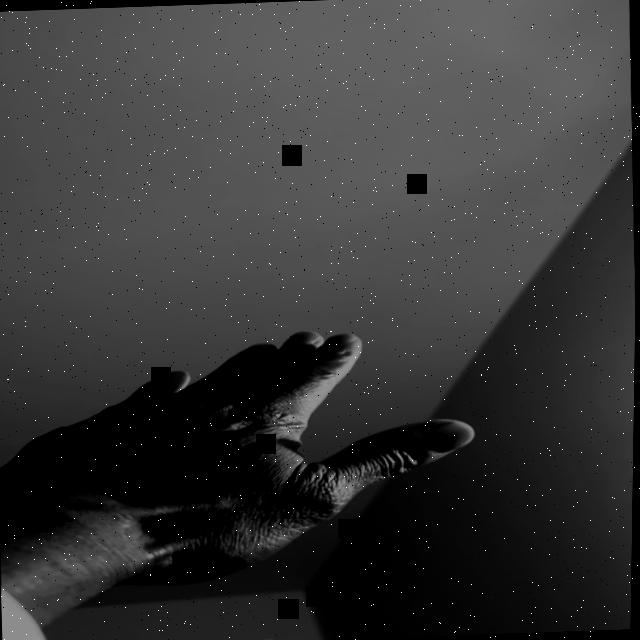Paper: (0, 322, 490, 594)
